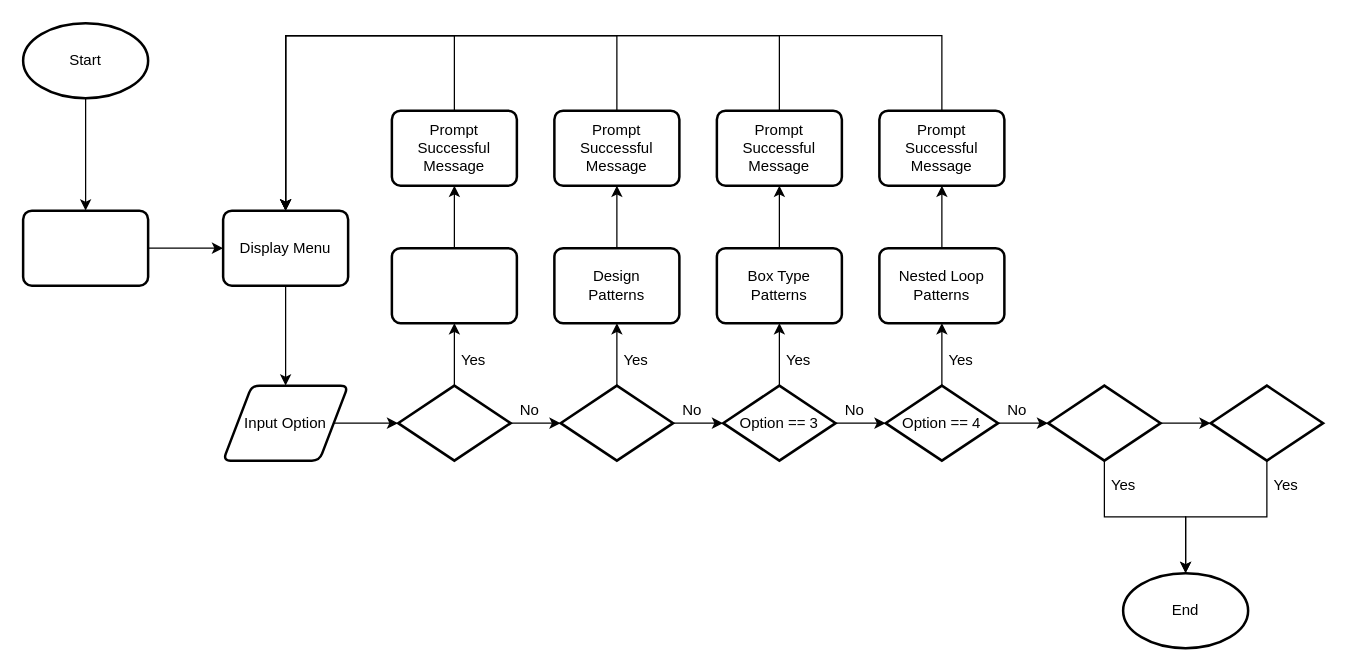
Some shapes in this 1345 by 670 pixel diagram are drawn without their labels. Here are the shapes that lost their labels. From the top down, the centre of each, then its label:
At (85,247): "Display Banner".
At (454,285): "Number Patterns".
At (453,422): "Option == 1".
At (616,422): "Option == 2".
At (1103,422): "Option == 5".
At (1266,422): "Option != 1/2/3/4/".
